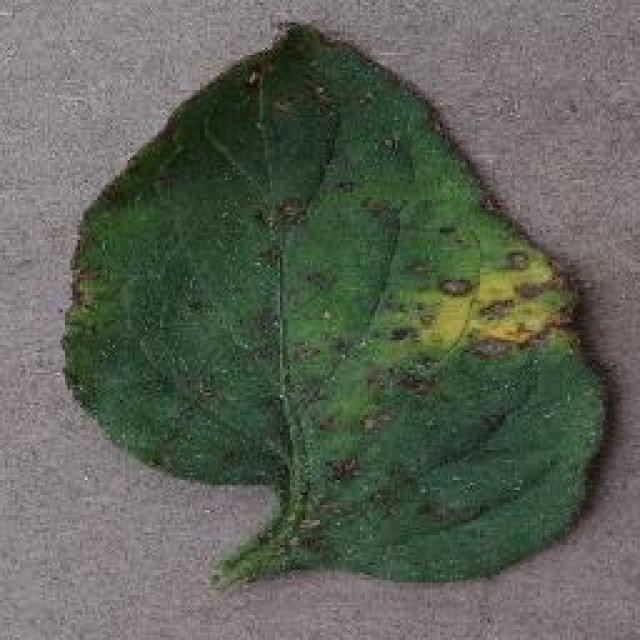bacterial spot: (62, 22, 604, 584)
